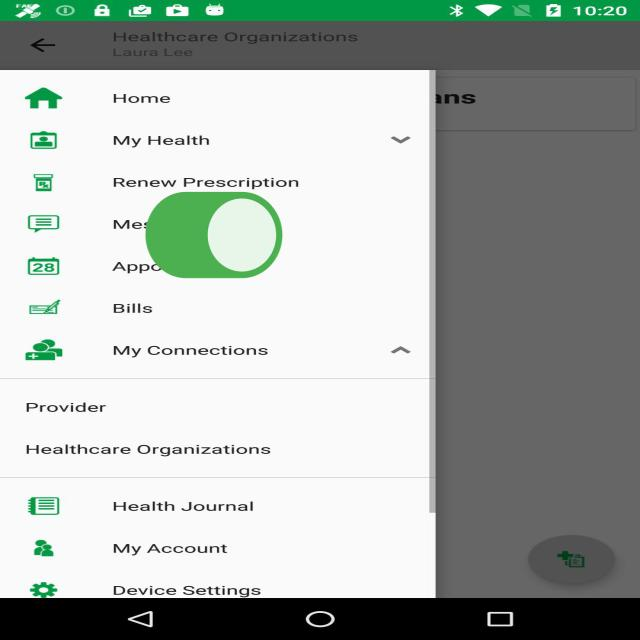social proof: (139, 159, 289, 318)
